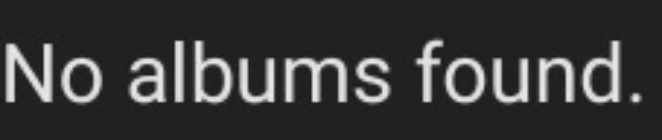TextView: (1, 1, 661, 139)
